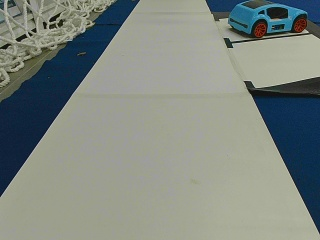car: (228, 3, 308, 36)
